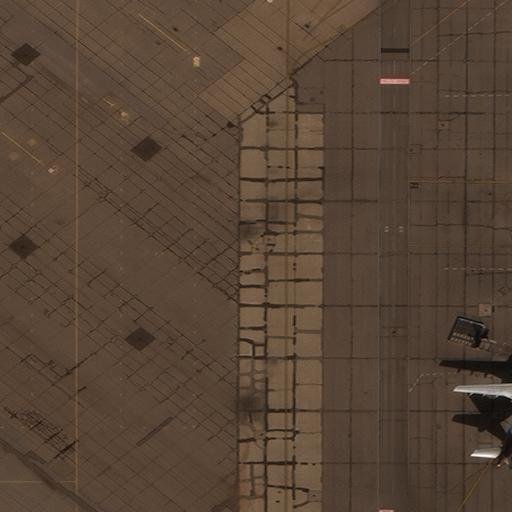Large Civil Transport: (457, 368, 511, 467)
